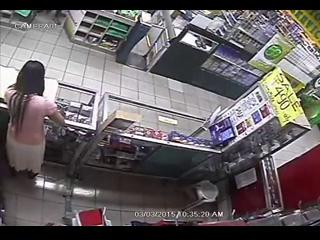Normal: (5, 60, 68, 180)
